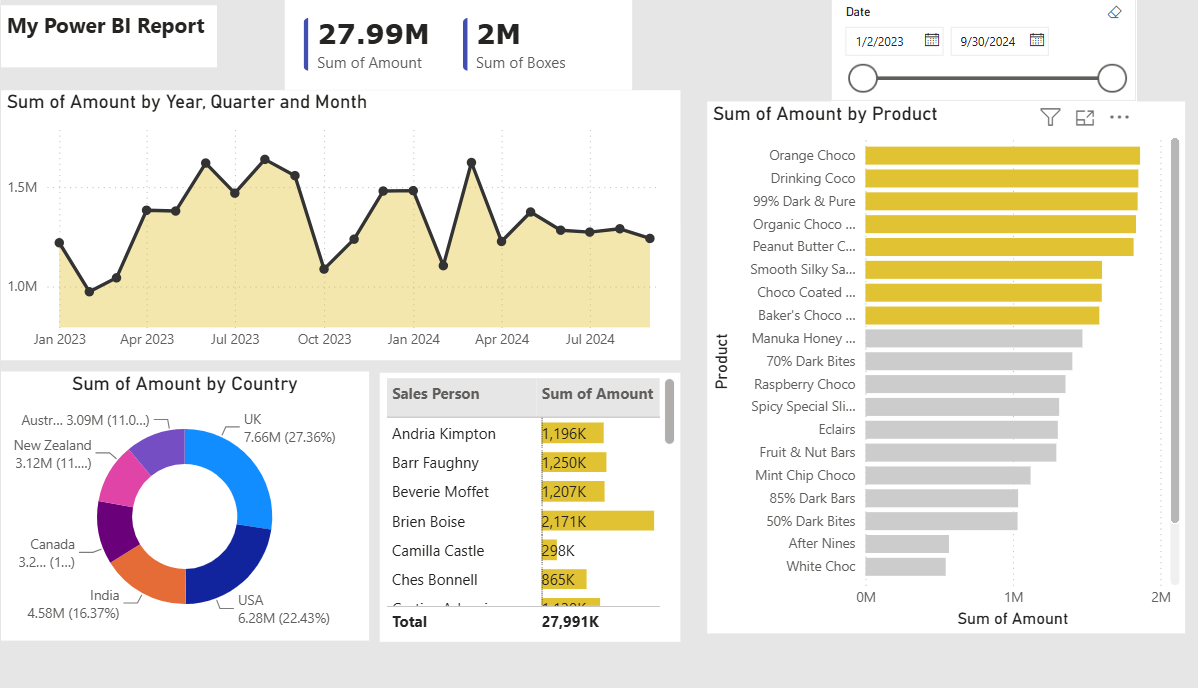

Layout of this report page (visuals, bound fields, positions):
{"tool":"powerbi","page":{"name":"Page 1","canvas":[1280,720],"ordinal":0},"visuals":[{"type":"lineChart","fields":{"Category":["data.Date.Variation.Date Hierarchy.Year","data.Date.Variation.Date Hierarchy.Quarter","data.Date.Variation.Date Hierarchy.Month","data.Date.Variation.Date Hierarchy.Day"],"Y":["Sum(data.Amount)"]},"box":[0,81,604,240],"z":1000},{"type":"donutChart","fields":{"Y":["Sum(data.Amount)"],"Category":["data.Country"]},"box":[0,331,327,239],"z":2000},{"type":"tableEx","fields":{"Values":["data.Sales Person","Sum(data.Amount)"]},"box":[337,332,267,239],"z":3000},{"type":"clusteredBarChart","fields":{"Category":["data.Product"],"Y":["Sum(data.Amount)"]},"box":[628,91,425,473],"z":4000},{"type":"cardVisual","fields":{"Data":["Sum(data.Amount)","Sum(data.Boxes)"]},"box":[252,0,309,81],"z":5000},{"type":"slicer","fields":{"Values":["data.Date"]},"box":[738,0,271,91],"z":6000},{"type":"textbox","box":[0,6,192,55],"z":6001}]}

Visuals, with their boxes in screenshot pixels (x1, y1, x2, y2), scaled from the page's 1280x720 canvas onto the 1198x688 screenshot:
lineChart - data.Date.Variation.Date Hierarchy.Year x data.Date.Variation.Date Hierarchy.Quarter: [0,77,565,307]
donutChart - Sum(data.Amount) x data.Country: [0,316,306,545]
tableEx - data.Sales Person x Sum(data.Amount): [315,317,565,546]
clusteredBarChart - data.Product x Sum(data.Amount): [588,87,986,539]
cardVisual - Sum(data.Amount) x Sum(data.Boxes): [236,0,525,77]
slicer - data.Date: [691,0,944,87]
textbox: [0,6,180,58]
